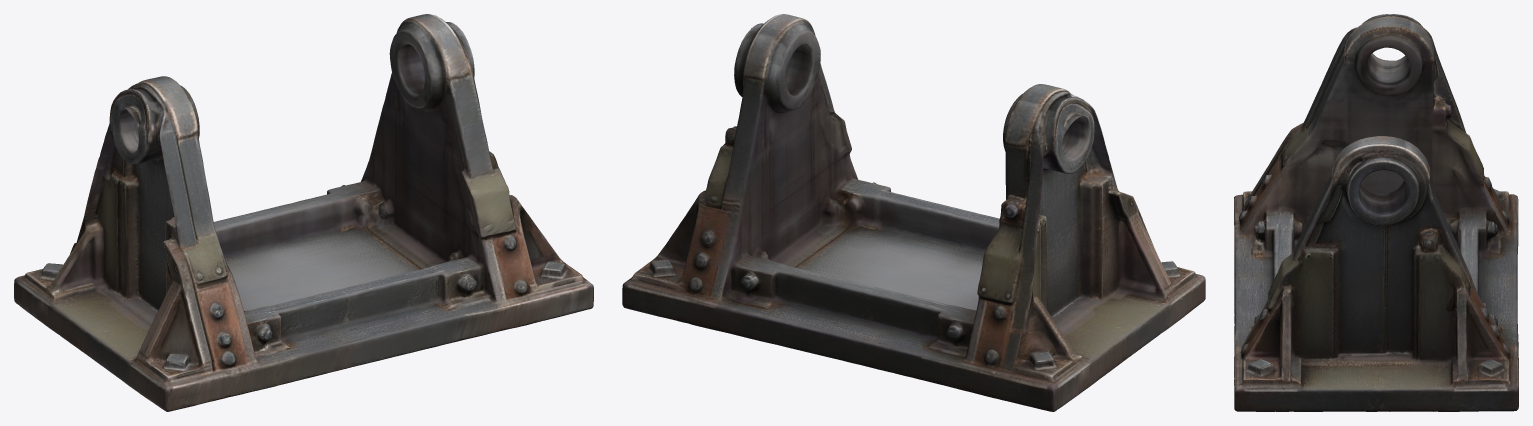
The model's file is catapulta_soporte.glb.
3 renders of one model, left to right at view 1: azimuth 30°, elevation 25°; view 2: azimuth 150°, elevation 25°; view 3: azimuth 270°, elevation 25°, orthographic. The views are drawn at different scales.
Visible parts, largest first — view 1: catapulta_soporte; view 2: catapulta_soporte; view 3: catapulta_soporte.
Part boxes in pixels (<box>): catapulta_soporte: <box>14,14,593,411</box>; catapulta_soporte: <box>622,14,1205,411</box>; catapulta_soporte: <box>1234,14,1518,411</box>.
Size of the model in its own units: 1.2 by 0.6713 by 0.7399.
1 material, 1 textured.
